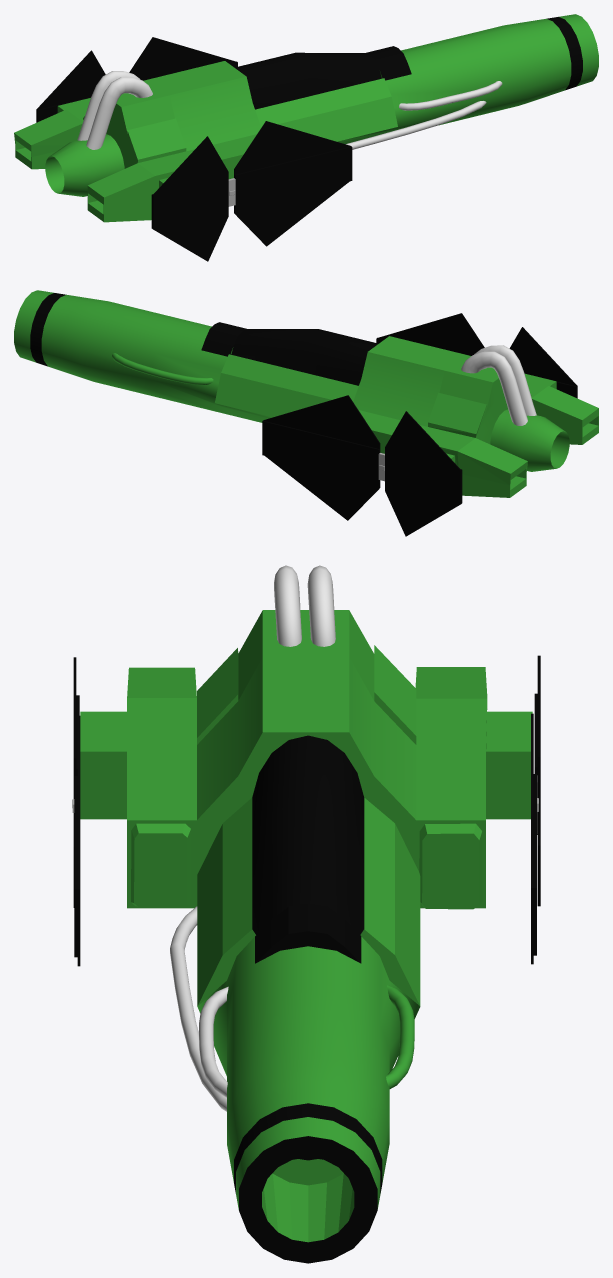
Rendered from enemy_endless_painted.fbx.
The picture shows the model from 3 angles, top to bottom: view 1: azimuth 30°, elevation 25°; view 2: azimuth 150°, elevation 25°; view 3: azimuth 270°, elevation 25°; orthographic projection. The views are drawn at different scales.
Parts seen in each view (by area): view 1: Cylinder001, Box007, Box005, Cockpit, Object003, Box002, Box003, Object002, Object006, Object001, ring_vorne001, Object005; view 2: Cylinder001, Box002, Box003, Cockpit, Object003, Box007, Box005, Object001, Object002, ring_vorne001, Object004; view 3: Cylinder001, Cockpit, ring_vorne, Object006, ring_vorne001, Object001, Object002, Object005, Object004, Box007, Box002, Box003.
Boxes of the visible parts, <box> form: Cylinder001: <box>14,14,598,222</box>; Box007: <box>234,121,352,246</box>; Box005: <box>151,136,228,261</box>; Cockpit: <box>235,46,411,109</box>; Object003: <box>45,134,124,196</box>; Box002: <box>129,37,237,80</box>; Box003: <box>36,50,105,122</box>; Object002: <box>86,77,152,149</box>; Object006: <box>346,101,486,149</box>; Object001: <box>77,71,140,140</box>; ring_vorne001: <box>547,17,582,90</box>; Object005: <box>399,81,502,110</box>; Cylinder001: <box>14,290,598,497</box>; Box002: <box>262,395,380,520</box>; Box003: <box>385,411,462,536</box>; Cockpit: <box>201,322,378,385</box>; Object003: <box>490,409,569,471</box>; Box007: <box>376,313,484,355</box>; Box005: <box>509,327,577,398</box>; Object001: <box>461,351,527,425</box>; Object002: <box>474,345,536,415</box>; ring_vorne001: <box>30,293,66,366</box>; Object004: <box>112,353,213,384</box>; Cylinder001: <box>80,610,532,1242</box>; Cockpit: <box>252,735,364,963</box>; ring_vorne: <box>239,1136,377,1263</box>; Object006: <box>170,906,226,1111</box>; ring_vorne001: <box>234,1103,382,1193</box>; Object001: <box>307,565,335,646</box>; Object002: <box>274,565,301,646</box>; Object005: <box>199,986,228,1097</box>; Object004: <box>386,985,414,1088</box>; Box007: <box>74,715,80,966</box>; Box002: <box>531,713,536,964</box>; Box003: <box>534,655,540,906</box>.
Bounding box in the file's own units: 52.18 × 14.52 × 20.05.
